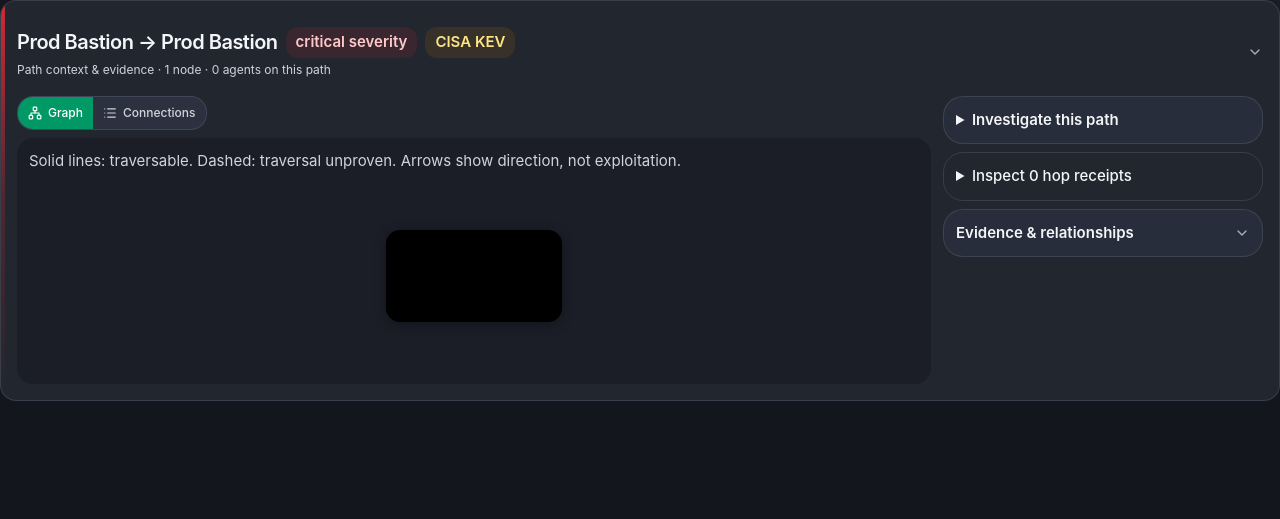
Test case: ExposurePathCommandCenter › presents a single-node risk signal as one node instead of zero hops
This screenshot has width=1280, height=519.
Step 1. Click the text "Path context & evidence · 1 node · 0 agents on this path" → [174, 69], box [17, 62, 331, 76]
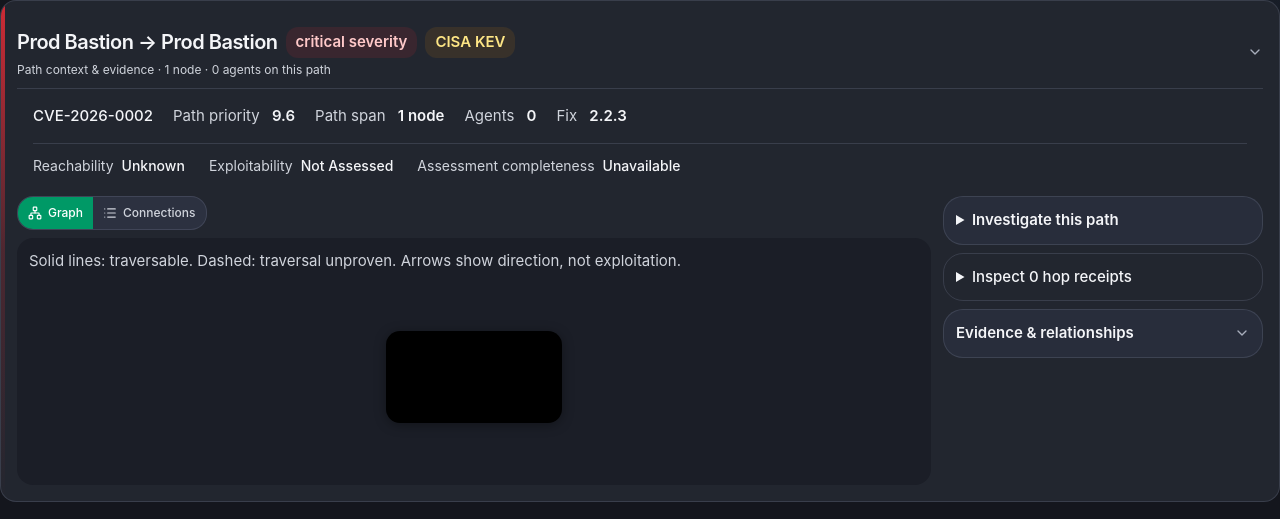
Result: the text "Path span" is shown at [315, 106, 386, 124]
Result: the text "1 node" is shown at [398, 106, 444, 124]
